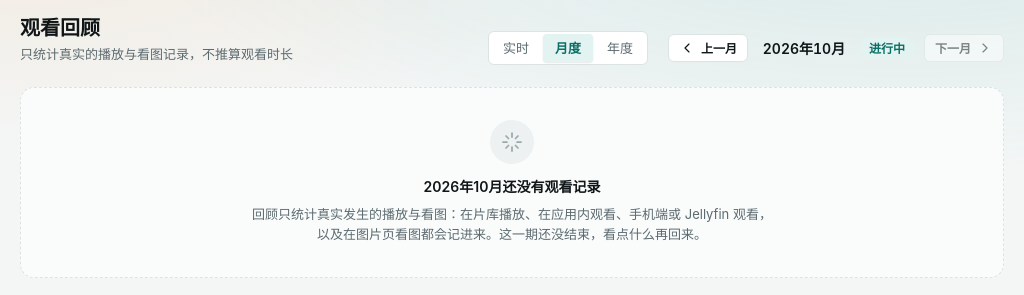
RecapPage › shows the empty state without hero or titles, and errors are shown instead of an empty success
Click the radio button with test id "recap-tab-year": click(620, 48) x1=595 y1=34 x2=645 y2=62
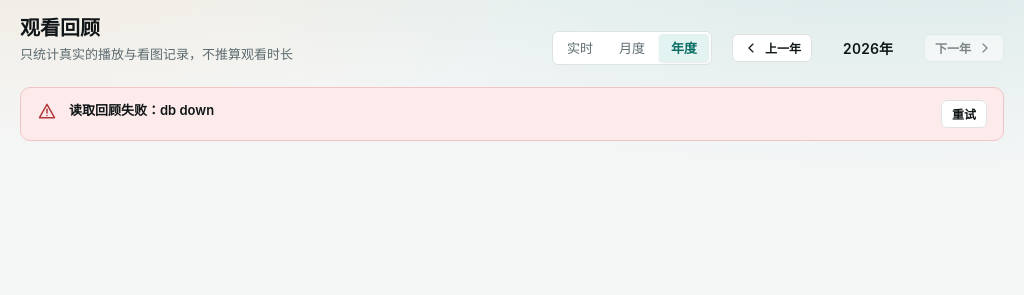
Now the message with test id "recap-error" shows "db down", box x1=69 y1=102 x2=214 y2=118
